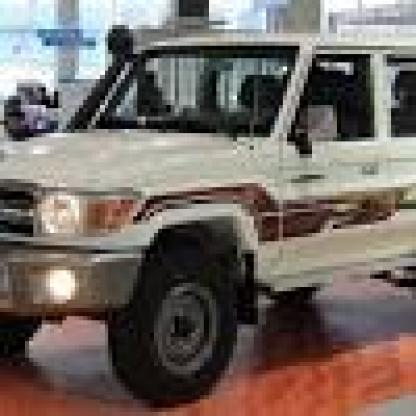light_vehicle: (4, 16, 412, 374)
